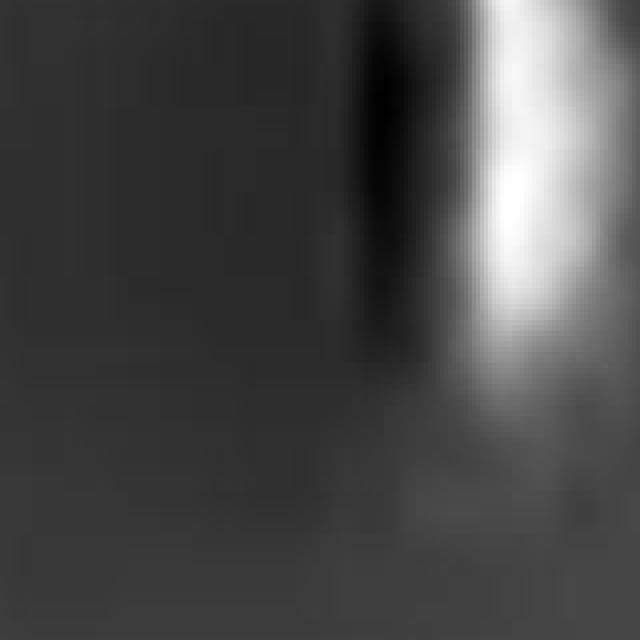person: (433, 1, 640, 428)
